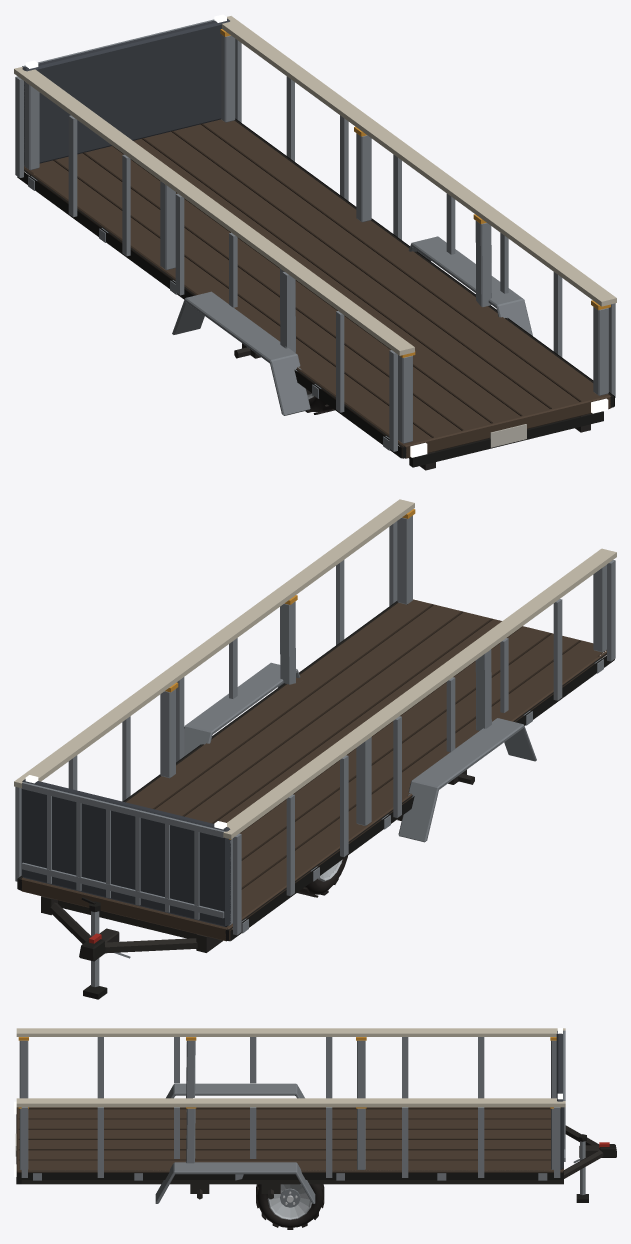
The model's file is HeavyHauler_Rustbucket.glb.
3 renders of one model, top to bottom at view 1: azimuth 30°, elevation 25°; view 2: azimuth 150°, elevation 25°; view 3: azimuth 270°, elevation 25°, orthographic. The views are drawn at different scales.
Parts seen in each view (by area): view 1: Bed, Body, Lights; view 2: Bed, Body, Hitch, Wheel; view 3: Bed, Body, Wheel, Hitch.
Boxes of the visible parts, <box> form: Bed: <box>14,16,616,458</box>; Body: <box>172,236,603,470</box>; Lights: <box>24,14,608,457</box>; Bed: <box>14,499,616,941</box>; Body: <box>41,662,536,952</box>; Hitch: <box>50,897,197,999</box>; Wheel: <box>297,856,347,897</box>; Bed: <box>16,1028,565,1180</box>; Body: <box>15,1083,563,1203</box>; Wheel: <box>256,1184,324,1229</box>; Hitch: <box>564,1125,616,1202</box>.
Size of the model in its own units: 9.92 by 8.59 by 28.64.
